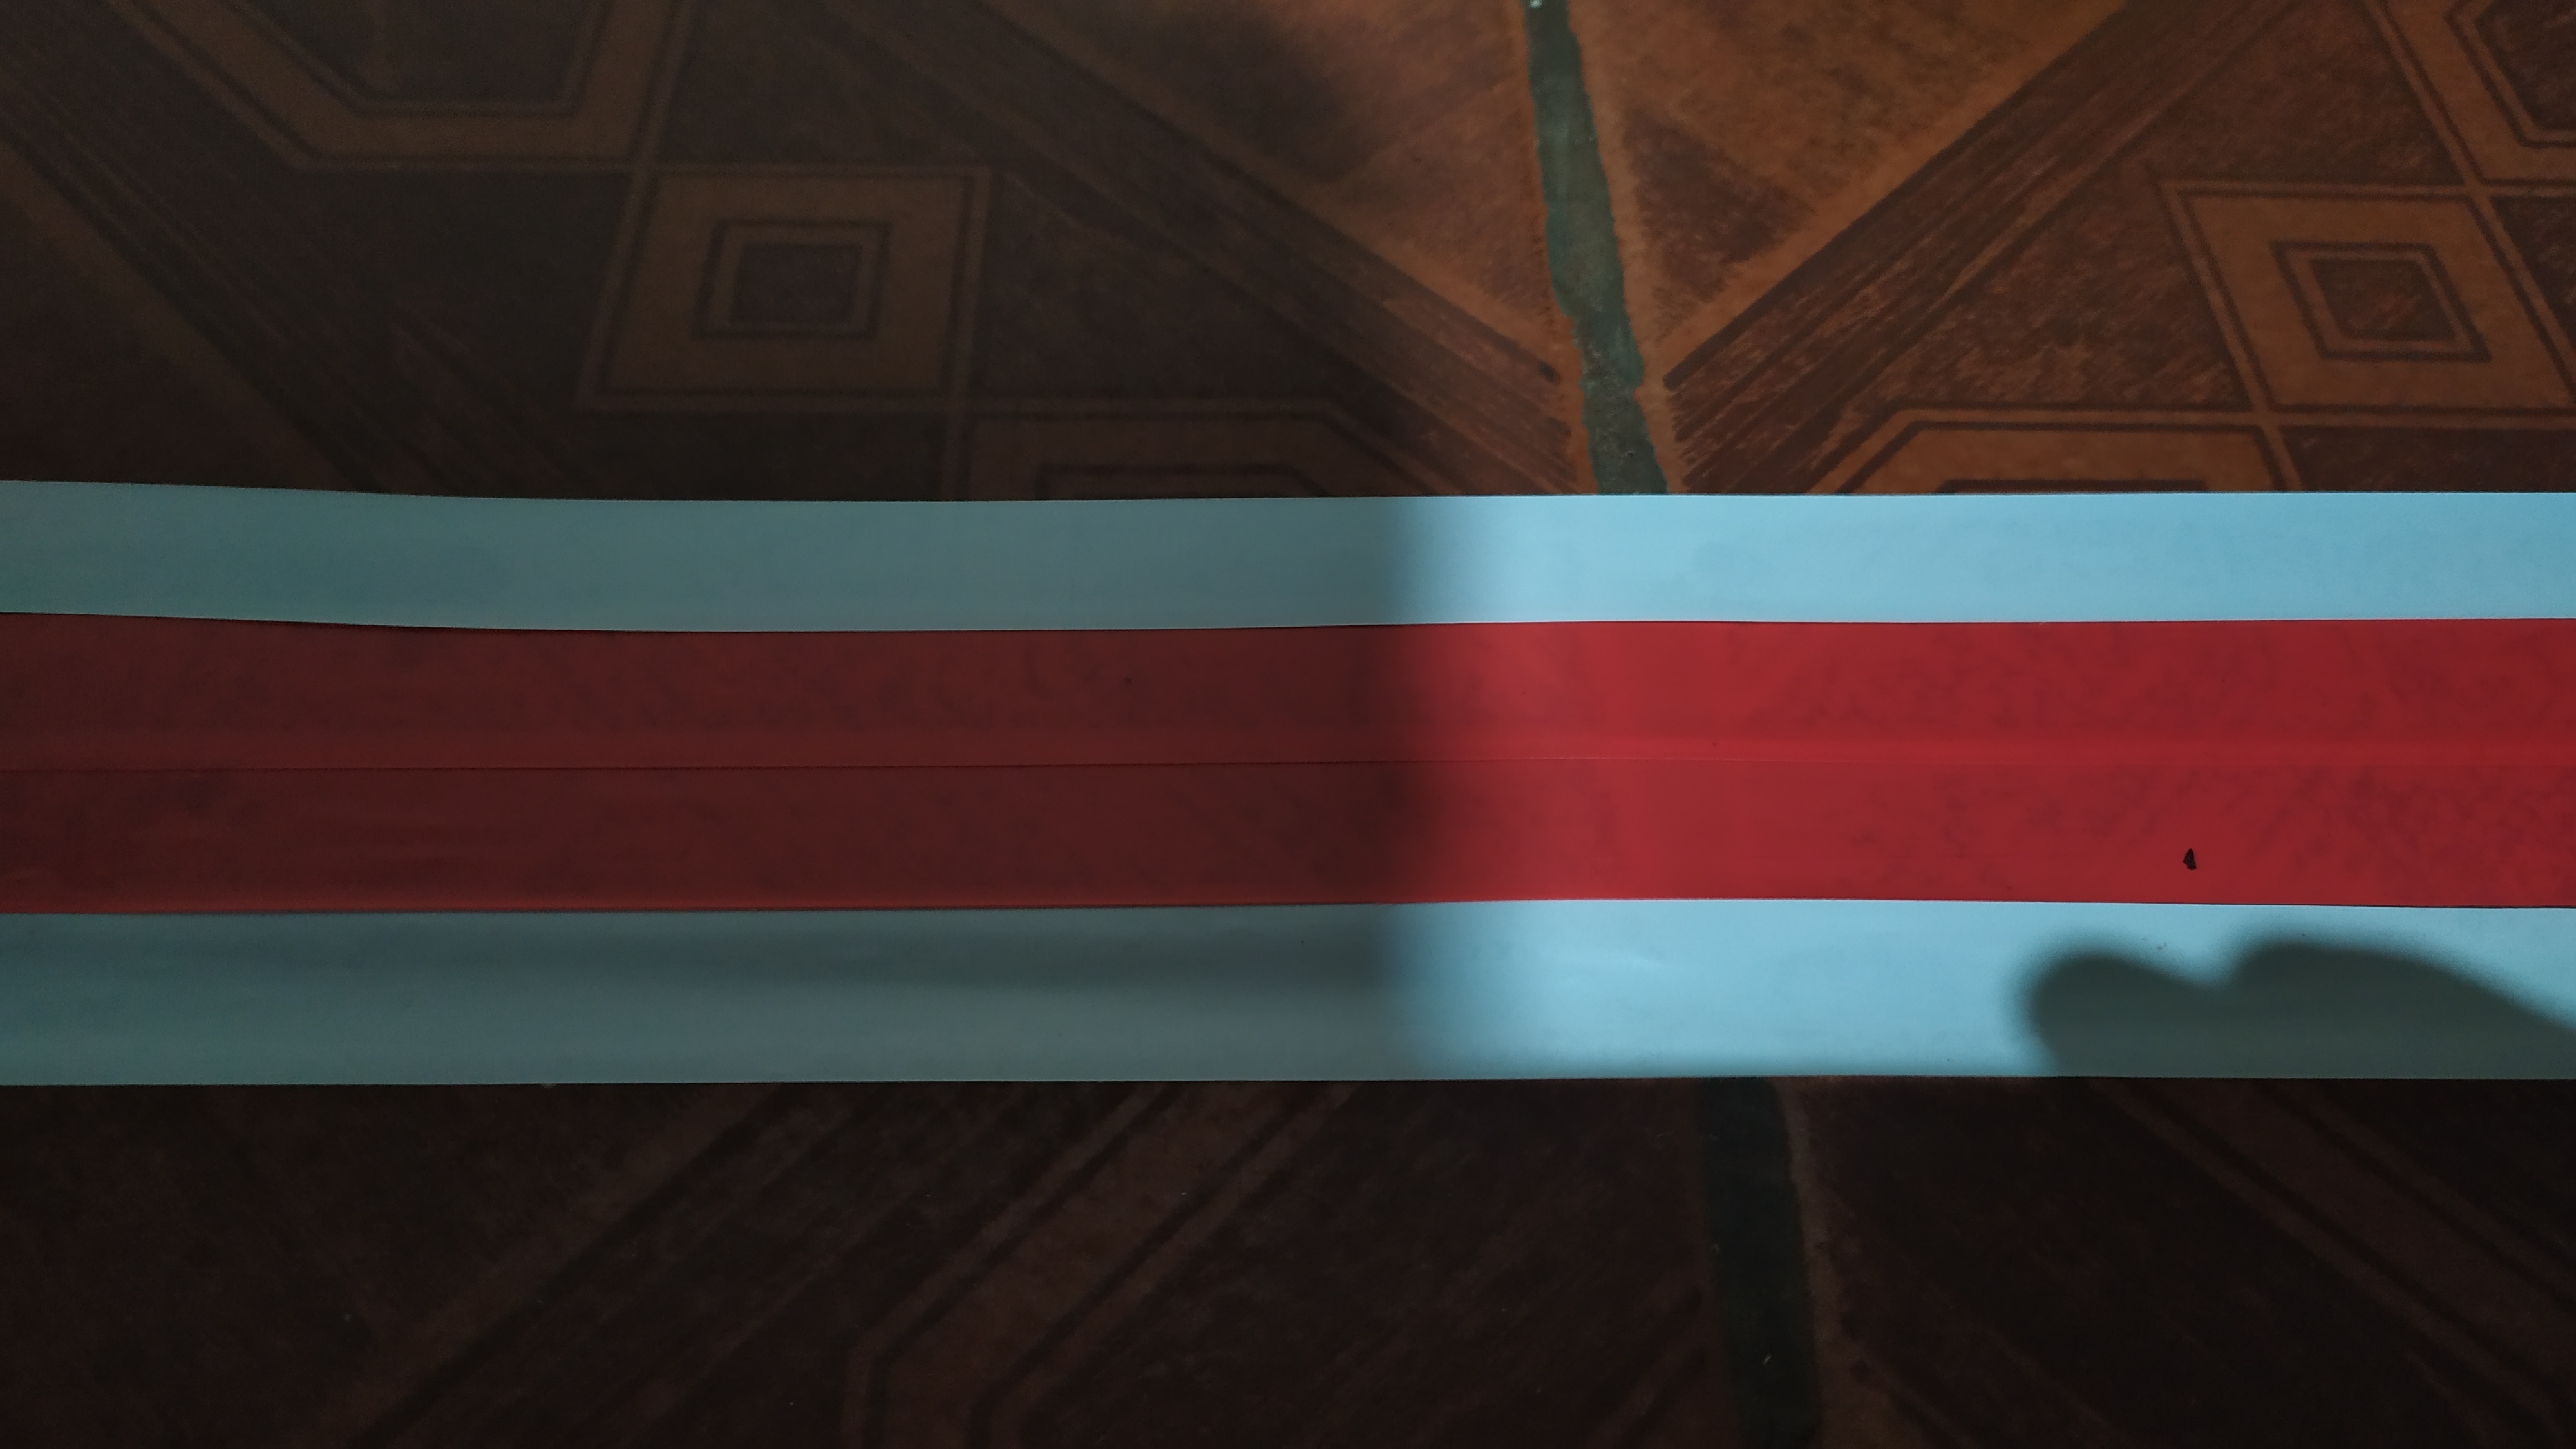faixa_reta: (0, 456, 2565, 1093)
